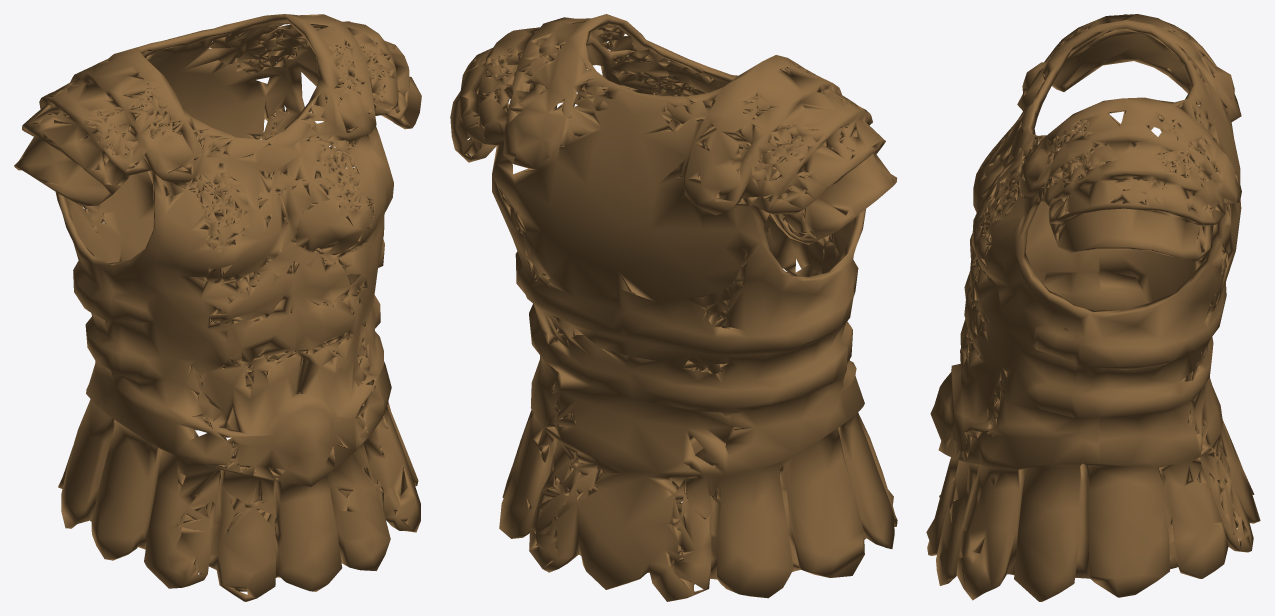
Rendered from bronze_armor.glb.
3 renders of one model, left to right at view 1: azimuth 30°, elevation 25°; view 2: azimuth 150°, elevation 25°; view 3: azimuth 270°, elevation 25°, orthographic. The views are drawn at different scales.
Parts seen in each view (by area): view 1: tmp51ftxfg4.ply; view 2: tmp51ftxfg4.ply; view 3: tmp51ftxfg4.ply.
Part boxes in pixels (x1,y1,x2,y2): tmp51ftxfg4.ply: (14,14,421,601); tmp51ftxfg4.ply: (450,14,897,601); tmp51ftxfg4.ply: (926,14,1260,601).
Size of the model in its own units: 1.63 by 1.97 by 1.2.
